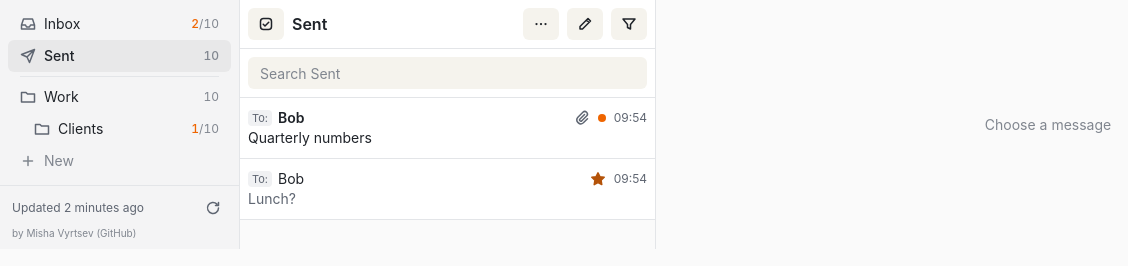
Test: the mail view › offers only reading, exporting and old mail for the server's own folders
Step 1. Click the button named "Folder:" → {"x": 541, "y": 24}, box [523,8,559,40]
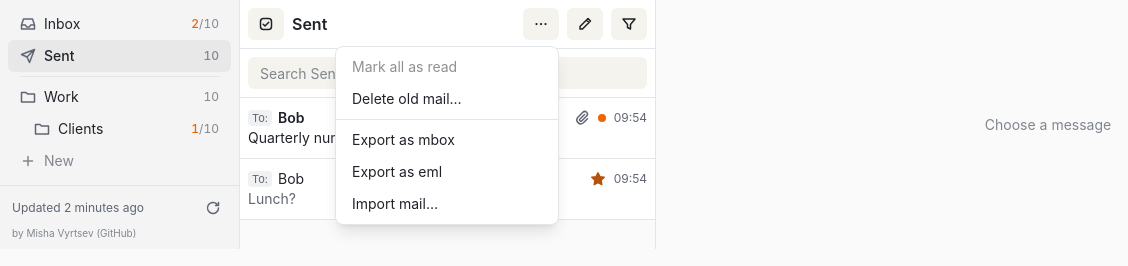
Expected: the menu items read "Mark all as read", "Delete old mail…", "Export as mbox", "Export as eml", "Import mail…", in this order, [340,51,554,83]; [340,83,554,115]; [340,124,554,156]; [340,156,554,188]; [340,188,554,220]
